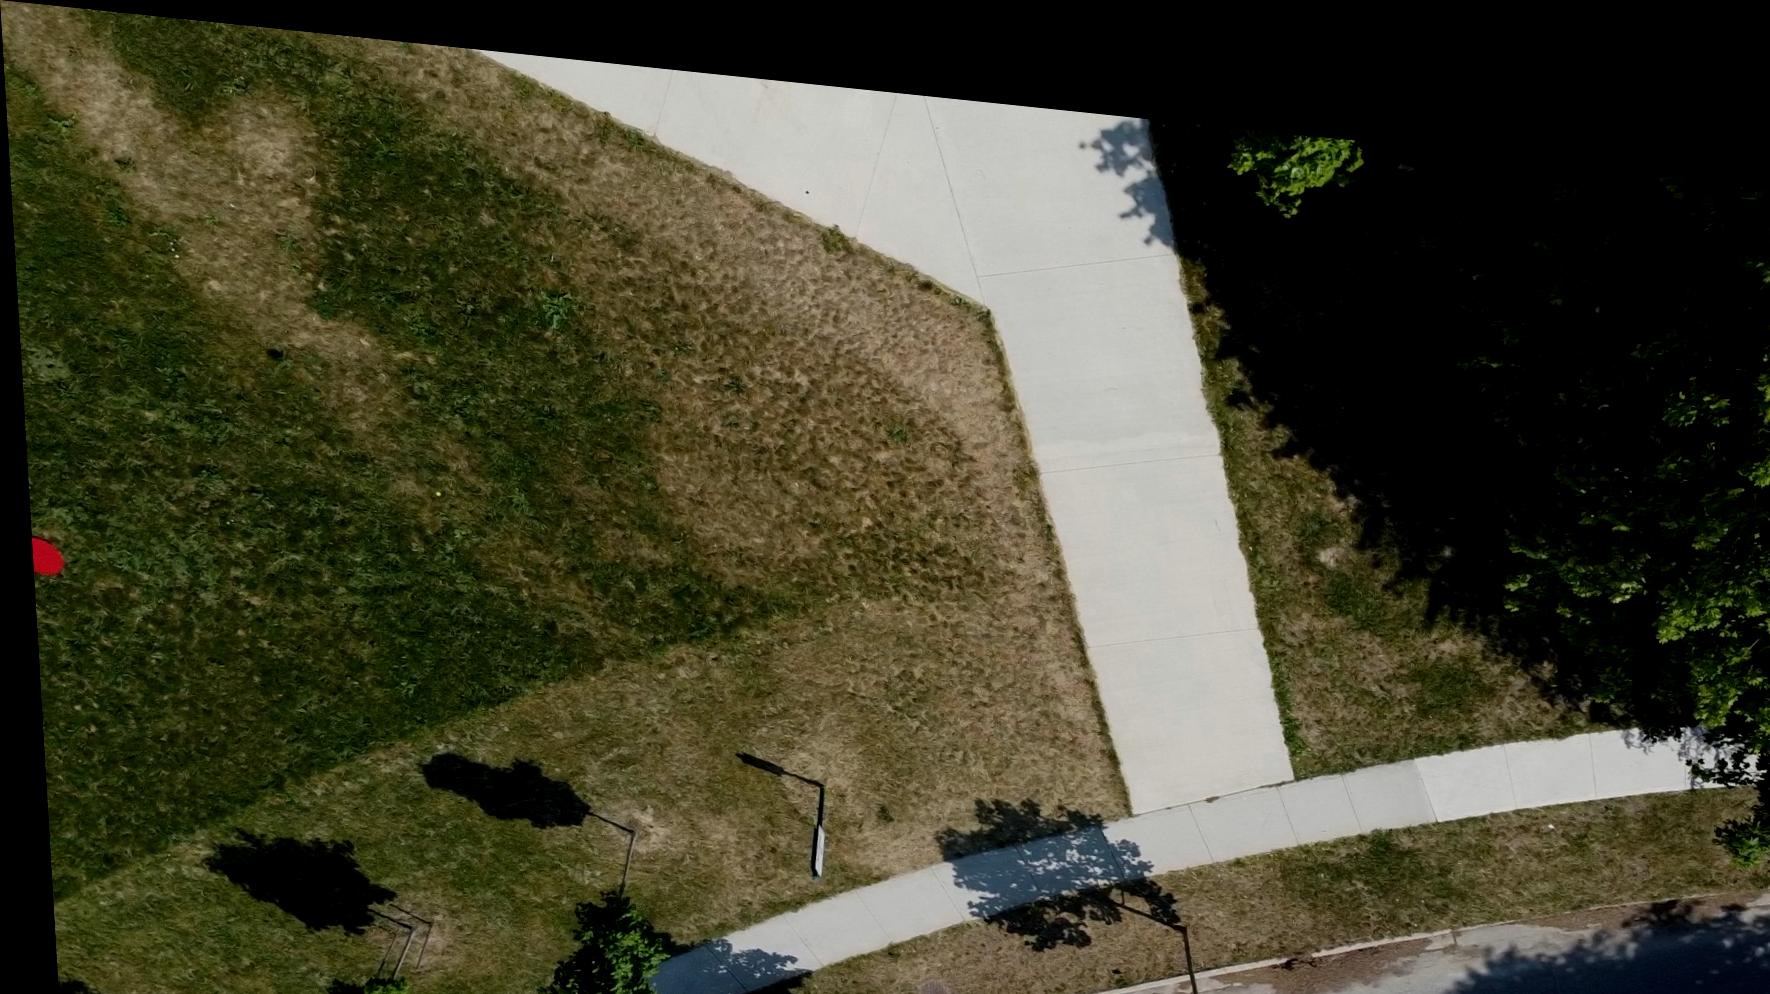Red: (26, 536, 58, 580)
